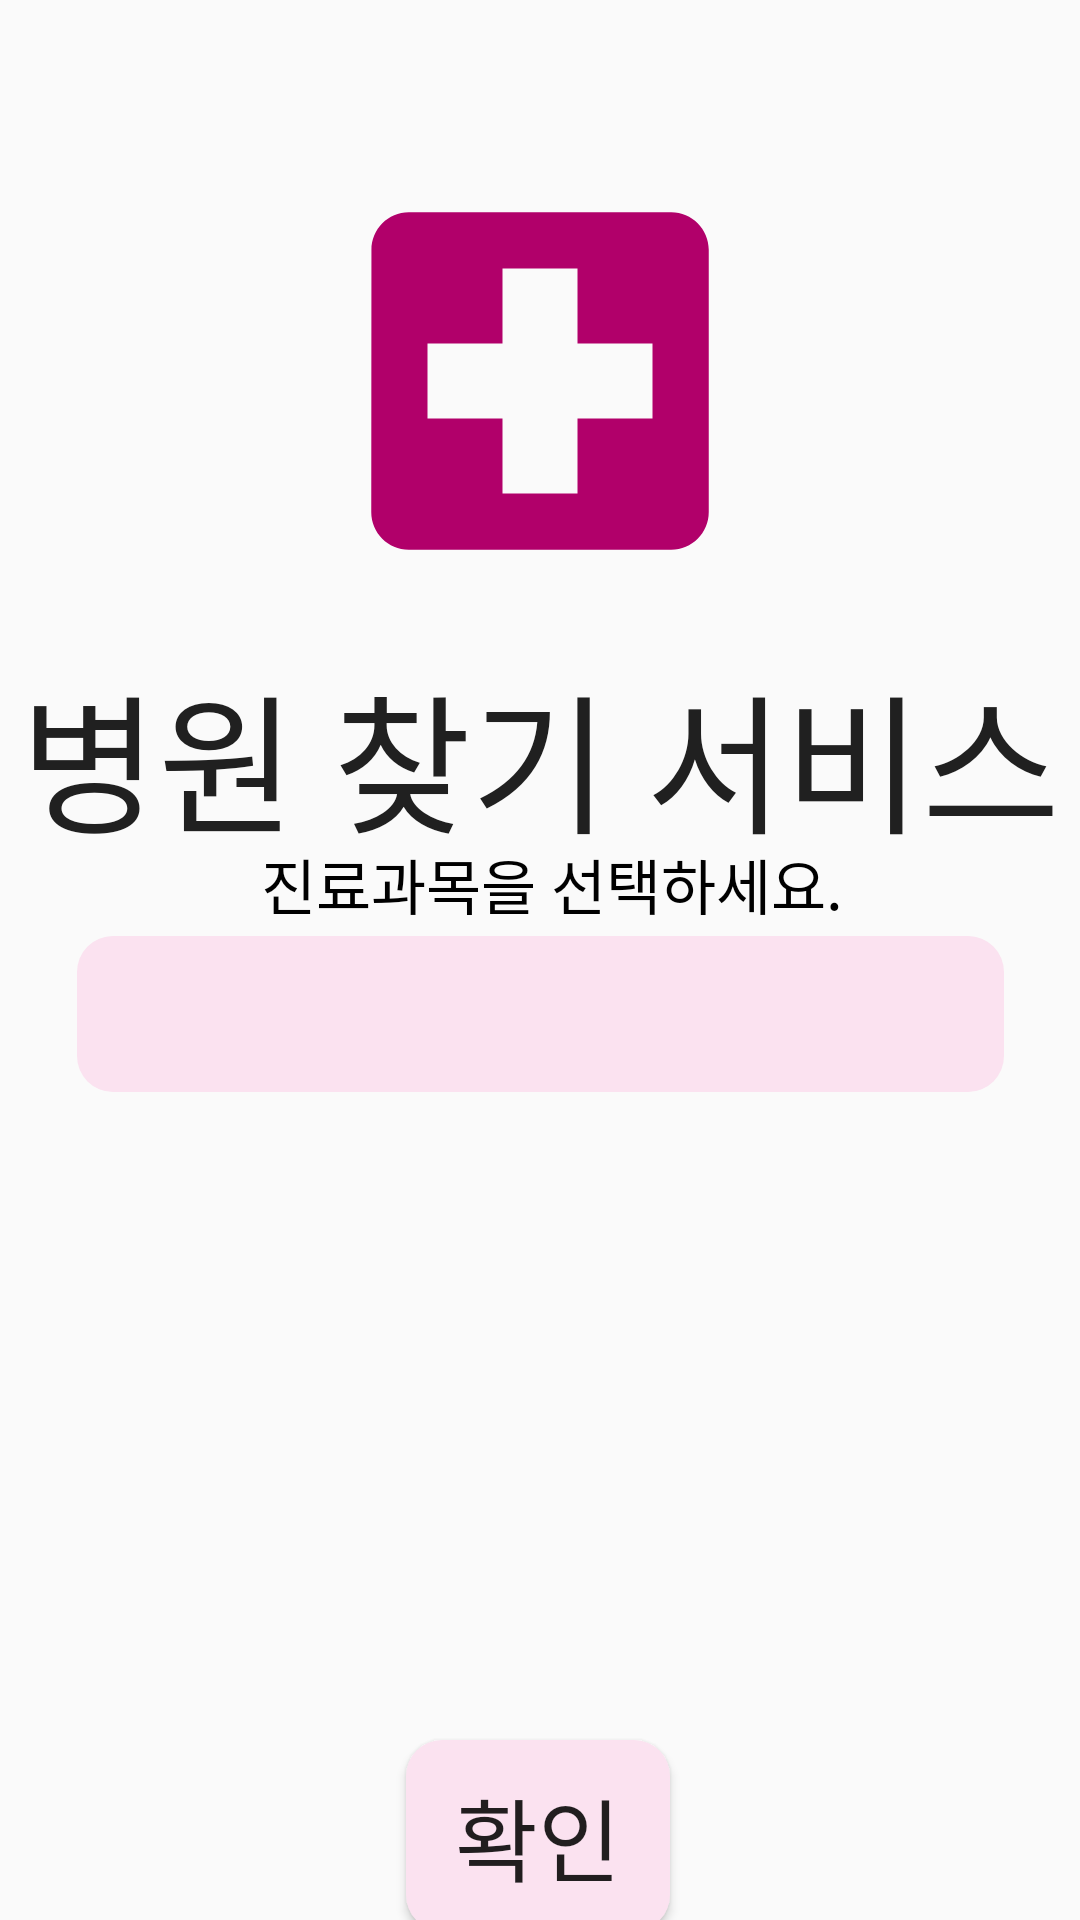

Icons on this 1080*1920 Android screen, each with its box as (x1, y1, x2, y2):
local hospital: (371, 212, 709, 550)
